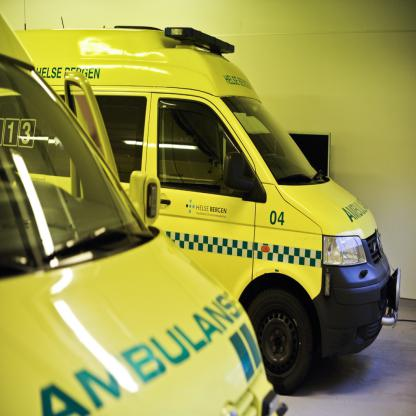Ambulance: (10, 0, 402, 395), (0, 13, 289, 415)
